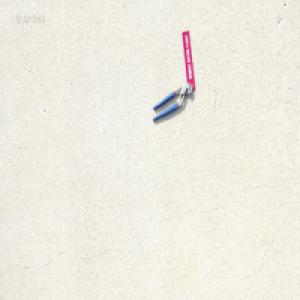Label: (181, 30, 196, 90)
Pliers: (152, 81, 193, 122)
